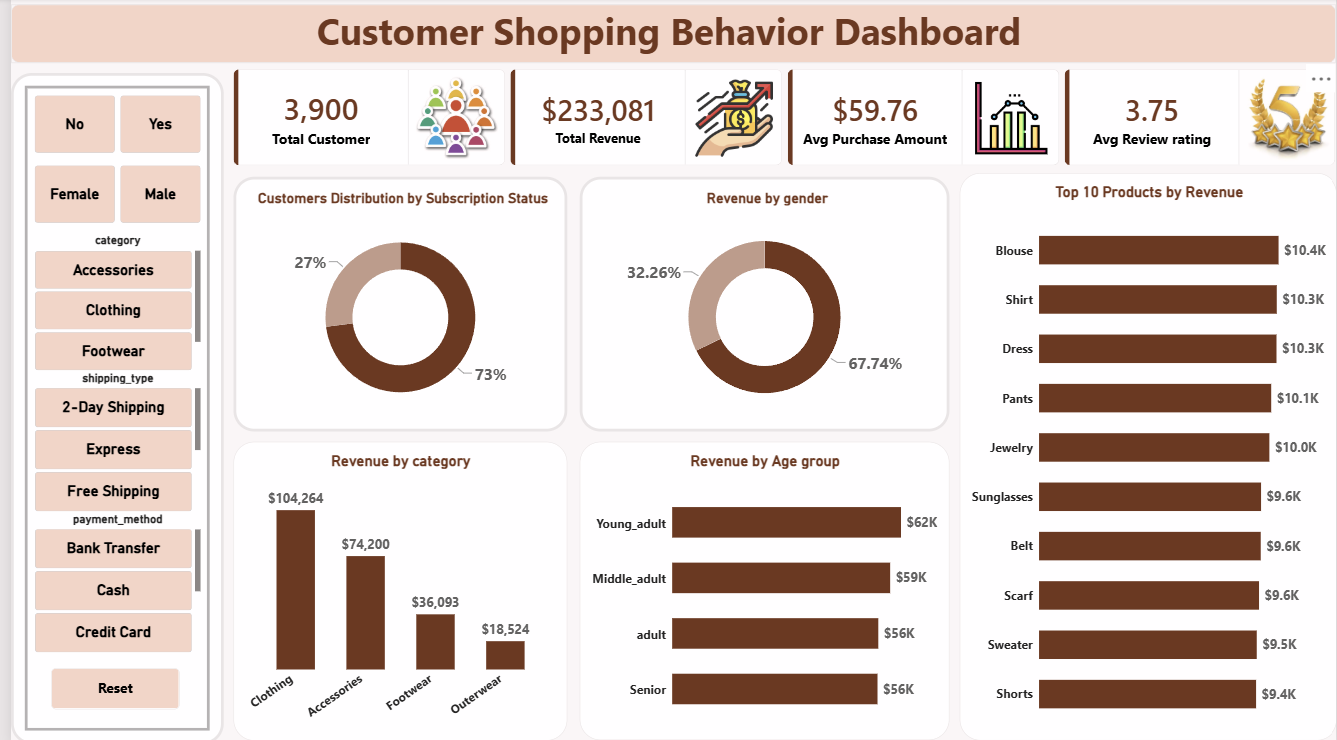

This screenshot's page, from the dashboard's own definition file:
{"tool":"powerbi","page":{"name":"Dashboard","canvas":[1920,1080],"ordinal":0},"visuals":[{"type":"cardVisual","fields":{"Data":["Customer.Total_Customer","Customer.Total_Revenue","Customer.Total_PurchaseAmount","Customer.Avg_Review_rating"]},"box":[322.1,103.2,1597.9,139.3],"z":0},{"type":"textbox","box":[0,9,1920.1,85.1],"z":1},{"type":"donutChart","title":"Customers Distribution by Subscription Status","fields":{"Category":["Customer.subscription_status"],"Y":["Customer.Total_Customer"]},"box":[322.1,258.8,483.2,369.2],"z":2},{"type":"clusteredColumnChart","title":"Revenue by category","fields":{"Category":["Customer.category"],"Y":["Customer.Total_Revenue"]},"box":[322.1,642.4,483.2,432.5],"z":3},{"type":"clusteredBarChart","title":"Revenue by Age group","fields":{"Category":["Customer.age_group"],"Y":["Customer.Total_Revenue"]},"box":[823.3,642.2,535.2,432.2],"z":4},{"type":"clusteredBarChart","title":"Top 10 Products by Revenue","fields":{"Category":["Customer.item_purchased"],"Y":["Customer.Total_Revenue"]},"box":[1372.9,253.2,547.5,821.3],"z":5},{"type":"donutChart","title":"Revenue by gender","fields":{"Category":["Customer.gender"],"Y":["Customer.Total_Revenue"]},"box":[823.3,259.3,535.2,368.4],"z":6},{"type":"shape","box":[0,108.6,307.6,971.8],"z":7},{"type":"advancedSlicerVisual","fields":{"Values":["Customer.subscription_status"]},"box":[34.4,141.2,240.7,83.2],"z":9},{"type":"advancedSlicerVisual","fields":{"Values":["Customer.gender"]},"box":[34.4,242.5,240.7,83.2],"z":10},{"type":"advancedSlicerVisual","fields":{"Values":["Customer.category"]},"box":[34.4,340.2,240.7,199.1],"z":11},{"type":"advancedSlicerVisual","fields":{"Values":["Customer.shipping_type"]},"box":[34.4,539.3,240.7,204.5],"z":12},{"type":"advancedSlicerVisual","fields":{"Values":["Customer.payment_method"]},"box":[34.4,743.8,240.7,204.5],"z":13},{"type":"actionButton","box":[57.9,970,186.4,59.7],"z":14}]}

Visuals, with their boxes in screenshot pixels (x1, y1, x2, y2), scaled from the page's 1920x1080 canvas onto the 1337x740 screenshot:
cardVisual - Customer.Total_Customer x Customer.Total_Revenue: left=224, top=71, right=1336, bottom=166
textbox: left=0, top=6, right=1336, bottom=64
"Customers Distribution by Subscription Status" donutChart: left=224, top=177, right=561, bottom=430
"Revenue by category" clusteredColumnChart: left=224, top=440, right=561, bottom=737
"Revenue by Age group" clusteredBarChart: left=573, top=440, right=946, bottom=736
"Top 10 Products by Revenue" clusteredBarChart: left=956, top=173, right=1336, bottom=736
"Revenue by gender" donutChart: left=573, top=178, right=946, bottom=430
shape: left=0, top=74, right=214, bottom=739
advancedSlicerVisual - Customer.subscription_status: left=24, top=97, right=192, bottom=154
advancedSlicerVisual - Customer.gender: left=24, top=166, right=192, bottom=223
advancedSlicerVisual - Customer.category: left=24, top=233, right=192, bottom=370
advancedSlicerVisual - Customer.shipping_type: left=24, top=370, right=192, bottom=510
advancedSlicerVisual - Customer.payment_method: left=24, top=510, right=192, bottom=650
actionButton: left=40, top=665, right=170, bottom=706
